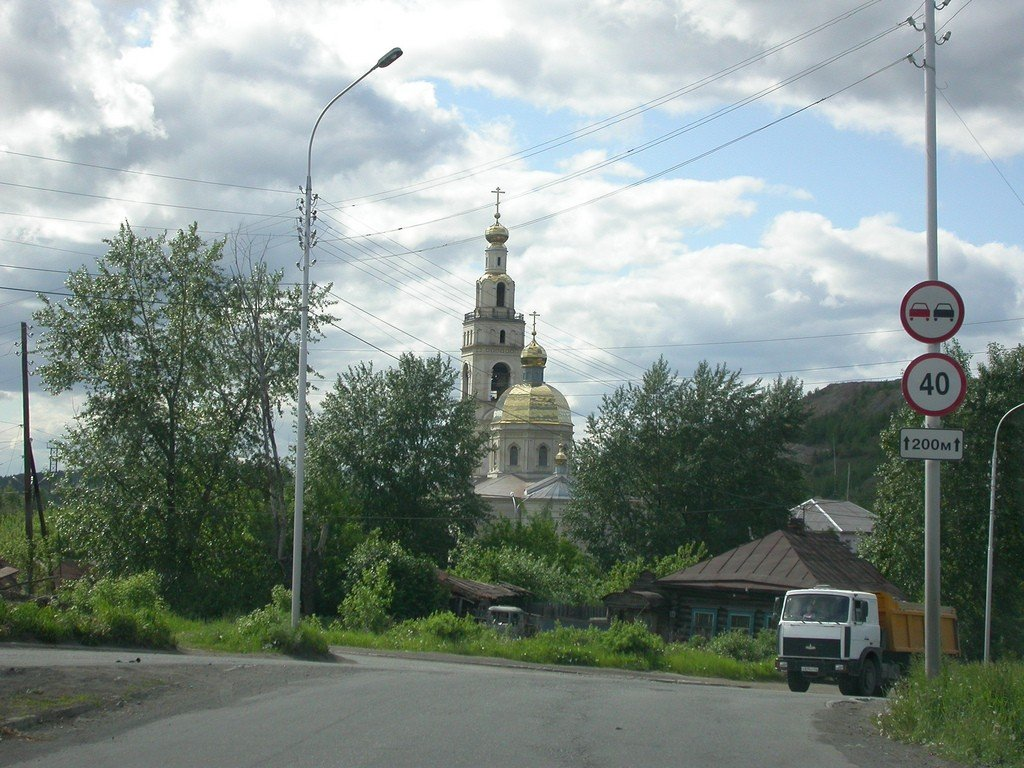sign: (901, 352, 967, 417), (899, 281, 966, 344), (899, 425, 967, 462)
